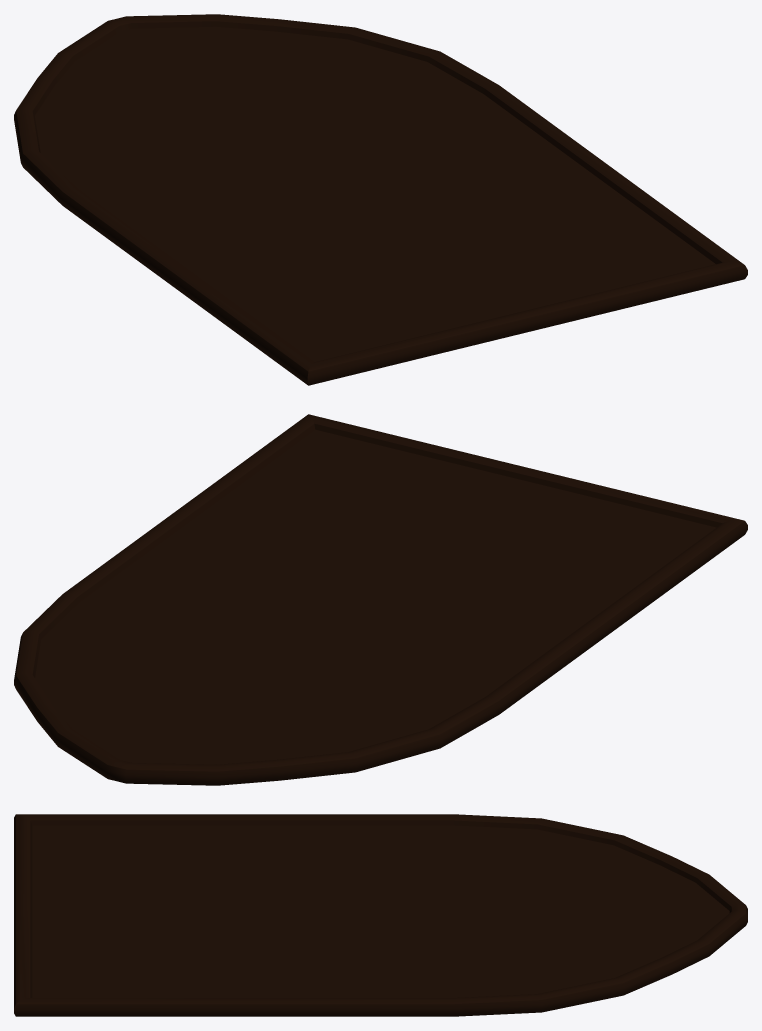
File: CardEmpty.fbx
The picture shows the model from 3 angles, top to bottom: view 1: azimuth 30°, elevation 25°; view 2: azimuth 150°, elevation 25°; view 3: azimuth 270°, elevation 25°; orthographic projection. The views are drawn at different scales.
Parts seen in each view (by area): view 1: polySurface326; view 2: polySurface326; view 3: polySurface326.
Part boxes in pixels (bbox=[...]): polySurface326: bbox=[14, 14, 747, 385]; polySurface326: bbox=[14, 414, 747, 785]; polySurface326: bbox=[14, 814, 747, 1016].
Size of the model in its own units: 4.93 by 0.2854 by 7.99.
